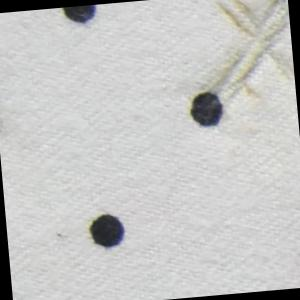Oil Stain: (194, 1, 297, 108)
Stain: (56, 230, 68, 240), (1, 119, 5, 134)
